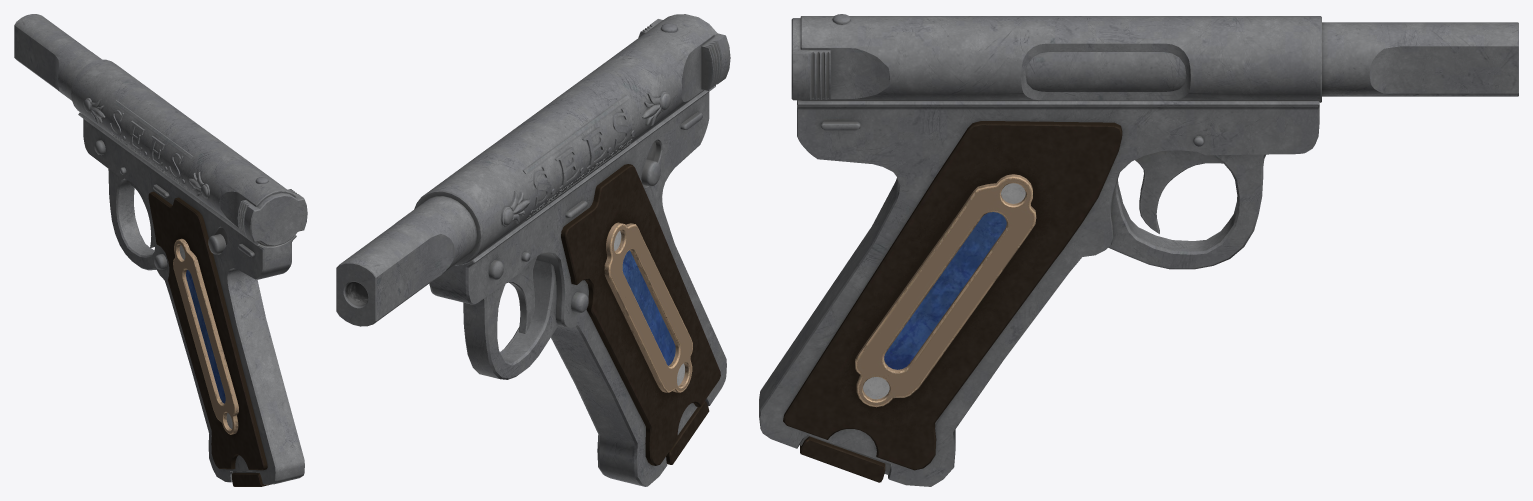
3 renders of one model, left to right at view 1: azimuth 30°, elevation 25°; view 2: azimuth 150°, elevation 25°; view 3: azimuth 270°, elevation 25°, orthographic. The views are drawn at different scales.
Parts seen in each view (by area): view 1: gun; view 2: gun; view 3: gun.
Boxes of the visible parts, x1,y1,x2,y2 form: gun: (14, 14, 307, 486); gun: (336, 14, 730, 486); gun: (759, 14, 1518, 486).
Bounding box in the file's own units: 31.05 × 163 × 244.
Materials: 1 (1 with a texture image).
